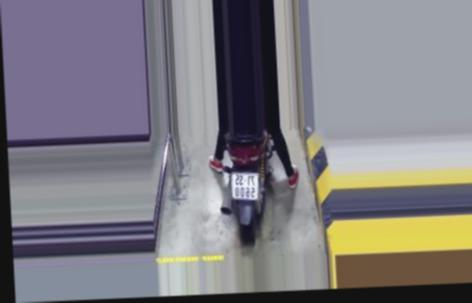License_Plate: (229, 170, 264, 202)
